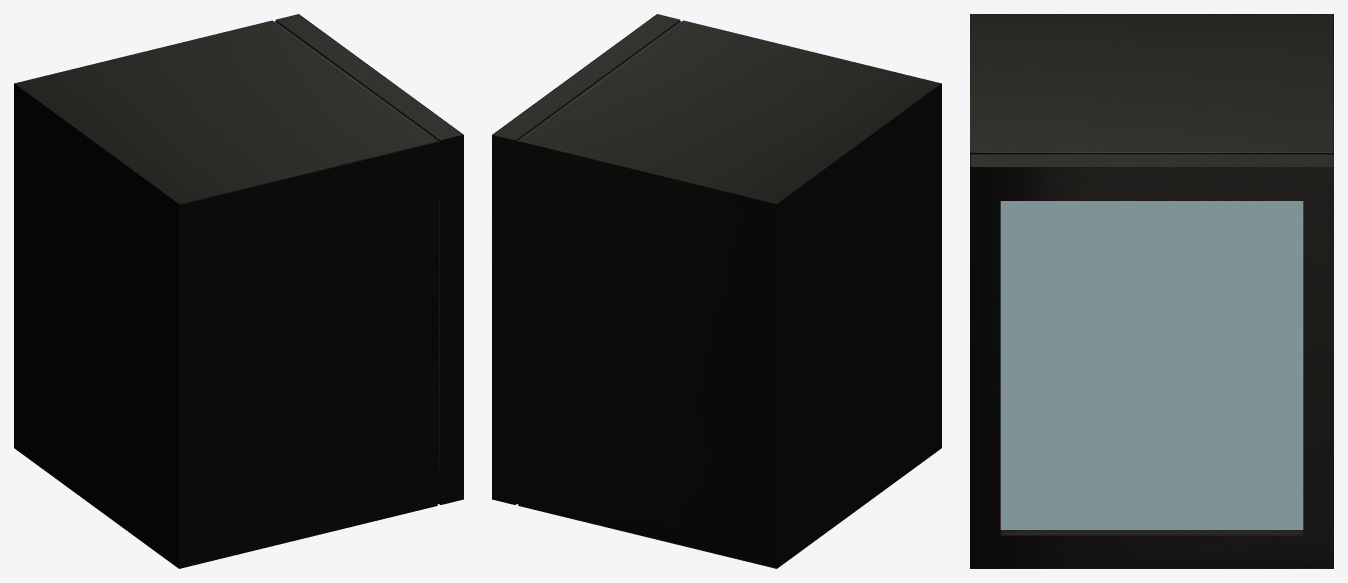
Rendered from Frigo.fbx.
The picture shows the model from 3 angles, left to right: view 1: azimuth 30°, elevation 25°; view 2: azimuth 150°, elevation 25°; view 3: azimuth 270°, elevation 25°; orthographic projection. The views are drawn at different scales.
Visible parts, largest first — view 1: Cube.001; view 2: Cube.001; view 3: Cube.001.
Boxes of the visible parts, <box> form: Cube.001: <box>14,14,463,568</box>; Cube.001: <box>492,14,941,568</box>; Cube.001: <box>970,14,1333,568</box>.
Size of the model in its own units: 785 by 961 by 788.
Materials: 5 (2 with a texture image).
